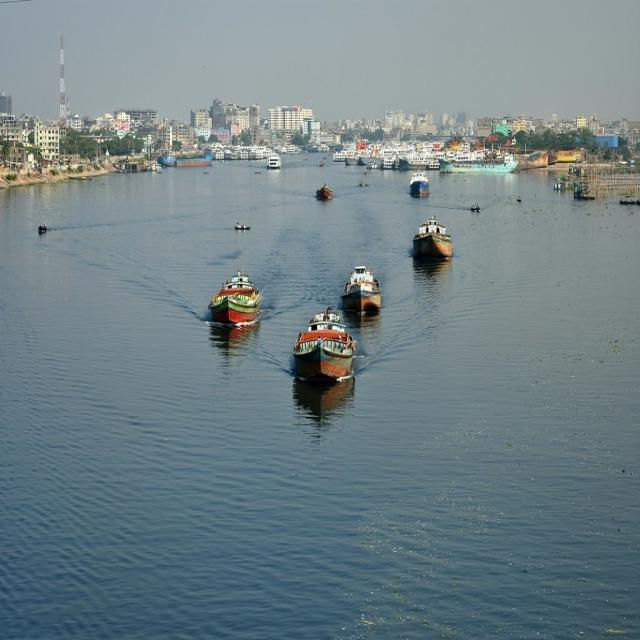boat: (295, 313, 354, 399), (205, 272, 262, 336), (342, 266, 396, 318), (435, 155, 517, 178), (412, 222, 456, 263), (407, 172, 433, 200), (315, 186, 335, 203), (230, 220, 256, 233), (572, 190, 600, 202), (266, 154, 282, 169), (617, 197, 638, 207), (35, 222, 49, 235), (470, 204, 481, 213), (251, 171, 263, 176), (516, 196, 524, 203)
